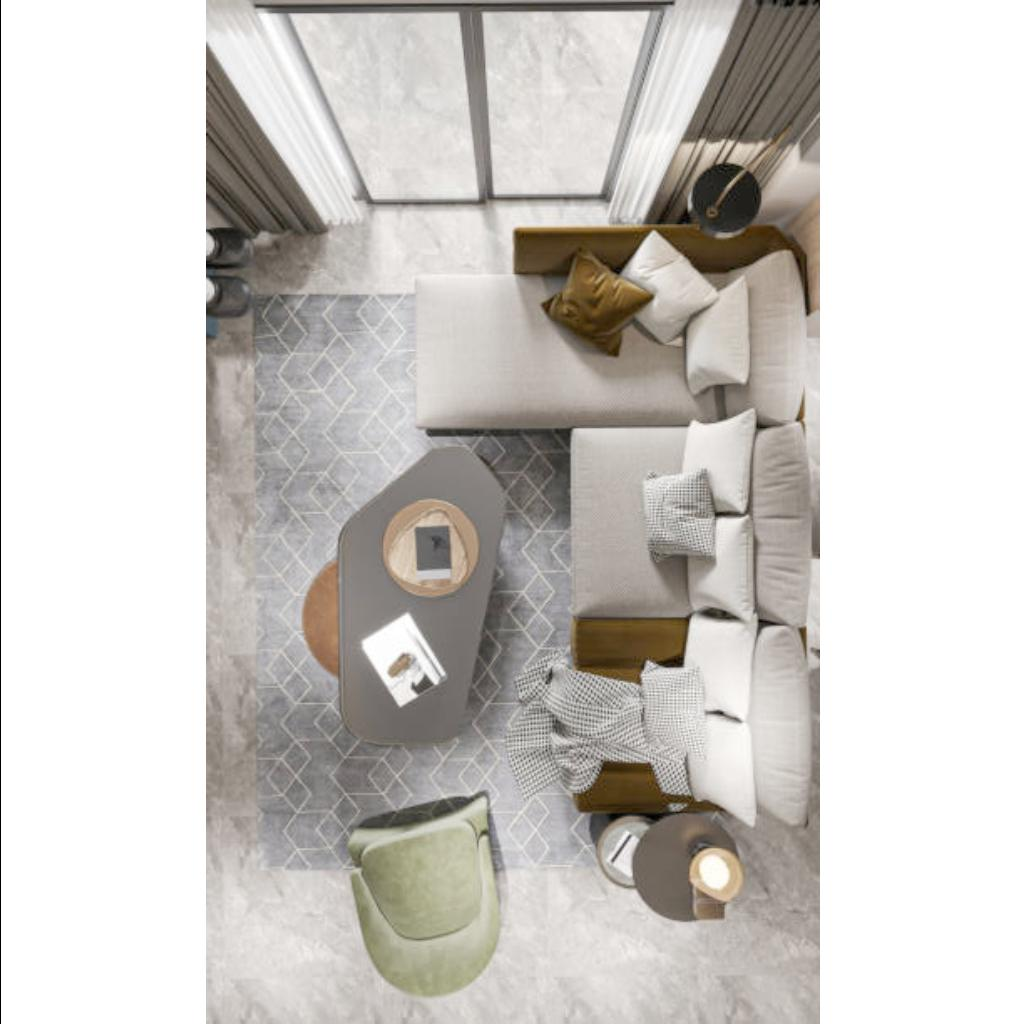chair: (348, 795, 500, 999)
chair-bed: (416, 227, 802, 423)
coffee table: (300, 445, 506, 747)
floor lamp: (692, 168, 754, 222)
rug: (262, 289, 660, 869)
side table: (596, 817, 744, 931)
sofa: (576, 426, 802, 812)
window: (254, 0, 472, 18), (474, 0, 674, 18)
